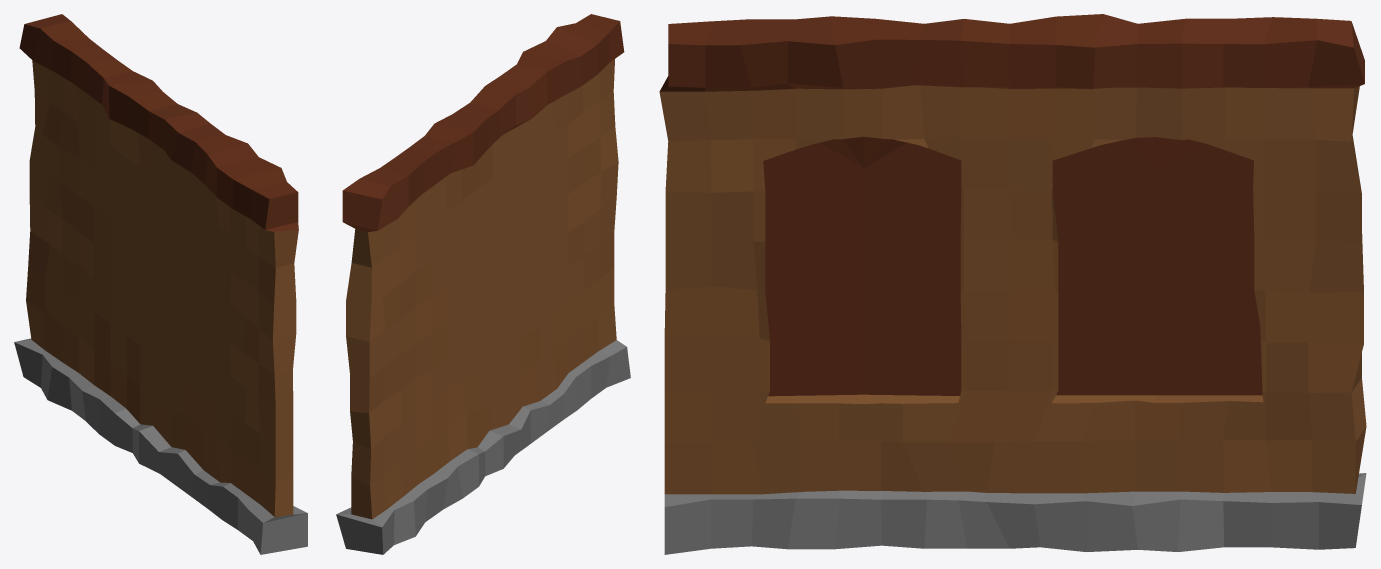
File: wall.fbx
3 renders of one model, left to right at view 1: azimuth 30°, elevation 25°; view 2: azimuth 150°, elevation 25°; view 3: azimuth 270°, elevation 25°, orthographic. The views are drawn at different scales.
Visible parts, largest first — view 1: Cube.013; view 2: Cube.013; view 3: Cube.013.
Boxes of the visible parts, x1,y1,x2,y2 form: Cube.013: (14, 14, 307, 554); Cube.013: (336, 14, 630, 554); Cube.013: (659, 14, 1366, 554).
Size of the model in its own units: 143 by 1001 by 1258.
